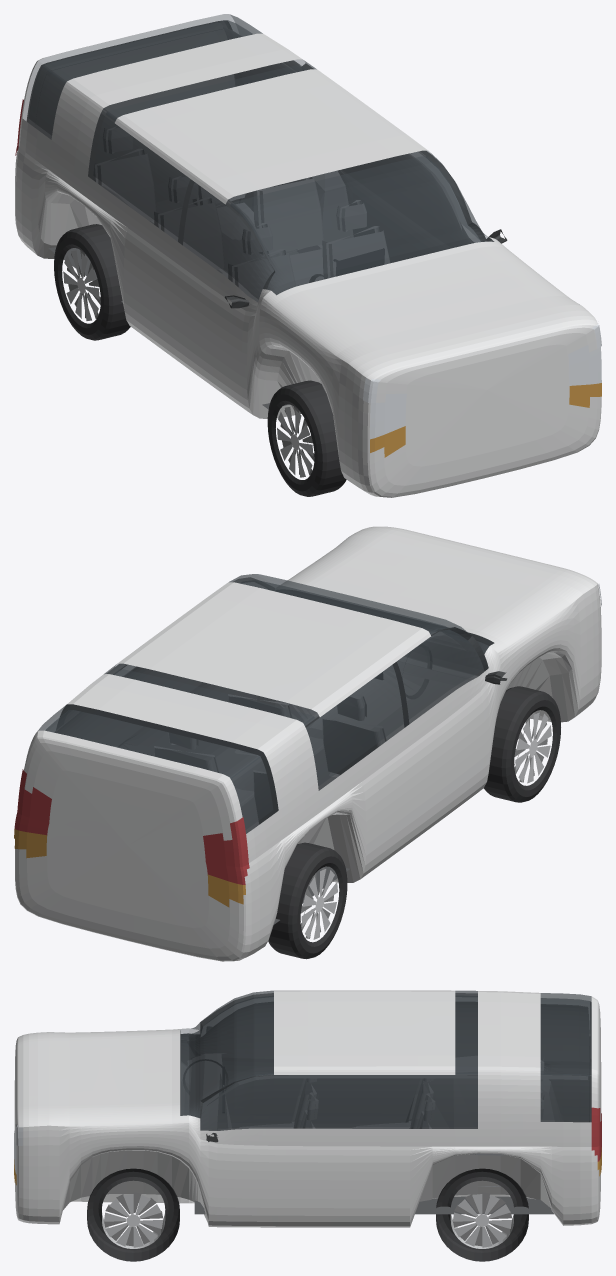
The model's file is vehicle.glb.
The picture shows the model from 3 angles, top to bottom: view 1: azimuth 30°, elevation 25°; view 2: azimuth 150°, elevation 25°; view 3: azimuth 270°, elevation 25°; orthographic projection. The views are drawn at different scales.
Parts seen in each view (by area): view 1: bodyShell, panel_frunkLid, panel_doorFrontLeft, panel_doorRearLeft, cabinShell, panel_liftgate, wheelFrontLeft, wheelRearLeft, seatRearRight, seatRearLeft, seatThirdLeft, seatFrontLeft (+8 smaller); view 2: bodyShell, panel_liftgate, panel_frunkLid, panel_doorRearLeft, panel_doorFrontLeft, wheelFrontLeft, wheelRearLeft, cabinShell, seatFrontLeft, cabinFloor, taillightLeft, taillightRight (+6 smaller); view 3: bodyShell, cabinShell, panel_doorFrontRight, panel_doorRearRight, panel_frunkLid, panel_liftgate, wheelFrontRight, wheelRearRight, dashboard, cabinFloor, seatRearLeft, seatFrontLeft (+2 smaller).
Part boxes in pixels (bbox=[...]): bodyShell: bbox=[26, 33, 601, 497]; panel_frunkLid: bbox=[270, 241, 584, 365]; panel_doorFrontLeft: bbox=[172, 179, 274, 418]; panel_doorRearLeft: bbox=[82, 113, 190, 360]; cabinShell: bbox=[45, 27, 472, 274]; panel_liftgate: bbox=[15, 14, 262, 250]; wheelFrontLeft: bbox=[267, 380, 346, 496]; wheelRearLeft: bbox=[54, 224, 130, 340]; seatRearRight: bbox=[253, 177, 323, 286]; seatRearLeft: bbox=[154, 176, 228, 278]; seatThirdLeft: bbox=[93, 126, 156, 222]; seatFrontLeft: bbox=[228, 223, 295, 301]; bodyShell: bbox=[20, 526, 601, 961]; panel_liftgate: bbox=[15, 704, 281, 957]; panel_frunkLid: bbox=[280, 533, 584, 648]; panel_doorRearLeft: bbox=[306, 662, 414, 882]; panel_doorFrontLeft: bbox=[393, 627, 494, 843]; wheelFrontLeft: bbox=[483, 686, 560, 802]; wheelRearLeft: bbox=[268, 842, 347, 959]; cabinShell: bbox=[54, 587, 465, 781]; seatFrontLeft: bbox=[322, 695, 386, 777]; cabinFloor: bbox=[216, 728, 349, 924]; taillightLeft: bbox=[203, 833, 249, 884]; taillightRight: bbox=[14, 785, 51, 835]; bodyShell: bbox=[14, 990, 600, 1225]; cabinShell: bbox=[181, 1002, 589, 1155]; panel_doorFrontRight: bbox=[200, 1075, 330, 1227]; panel_doorRearRight: bbox=[330, 1075, 477, 1227]; panel_frunkLid: bbox=[43, 1029, 180, 1125]; panel_liftgate: bbox=[540, 993, 601, 1224]; wheelFrontRight: bbox=[87, 1168, 179, 1261]; wheelRearRight: bbox=[436, 1168, 528, 1261]; dashboard: bbox=[187, 1053, 232, 1130]; cabinFloor: bbox=[194, 1129, 553, 1214]; seatRearLeft: bbox=[353, 1078, 433, 1128]; seatFrontLeft: bbox=[236, 1078, 316, 1129].
Size of the model in its own units: 2.29 by 1.82 by 5.18.
